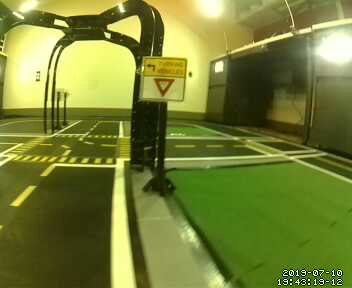Turn Yield: (139, 56, 186, 102)
